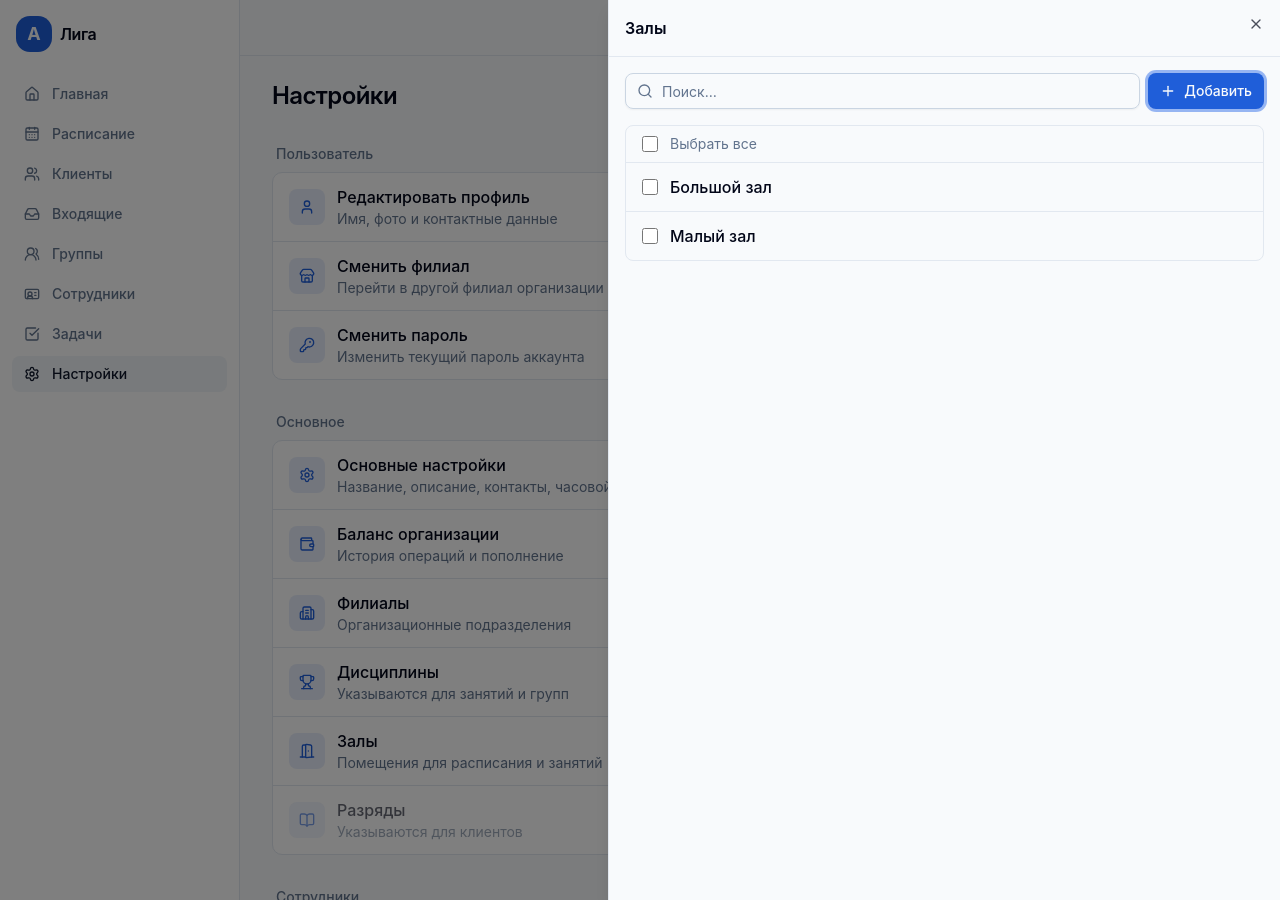
Test case: справочник › создаёт запись с новым UUID v7 и показывает её в списке
The width and height of the screenshot is (1280, 900).
Click the button "Добавить".
click(1206, 91)  # box [1148,73,1264,109]
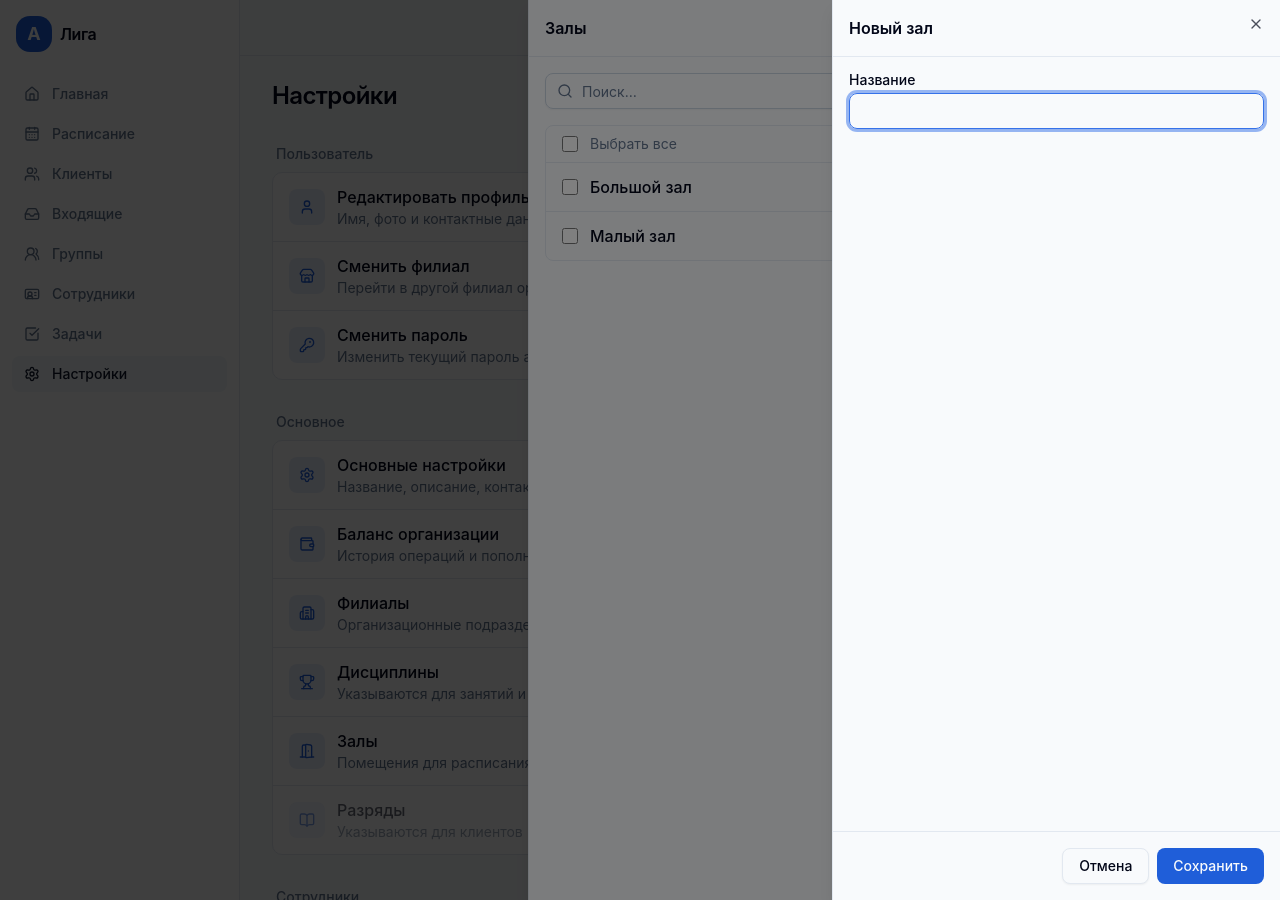
Type "  Зал для йоги " into the field labelled "Название".
click(1056, 111); type("  Зал для йоги ")  # box [849,93,1264,129]
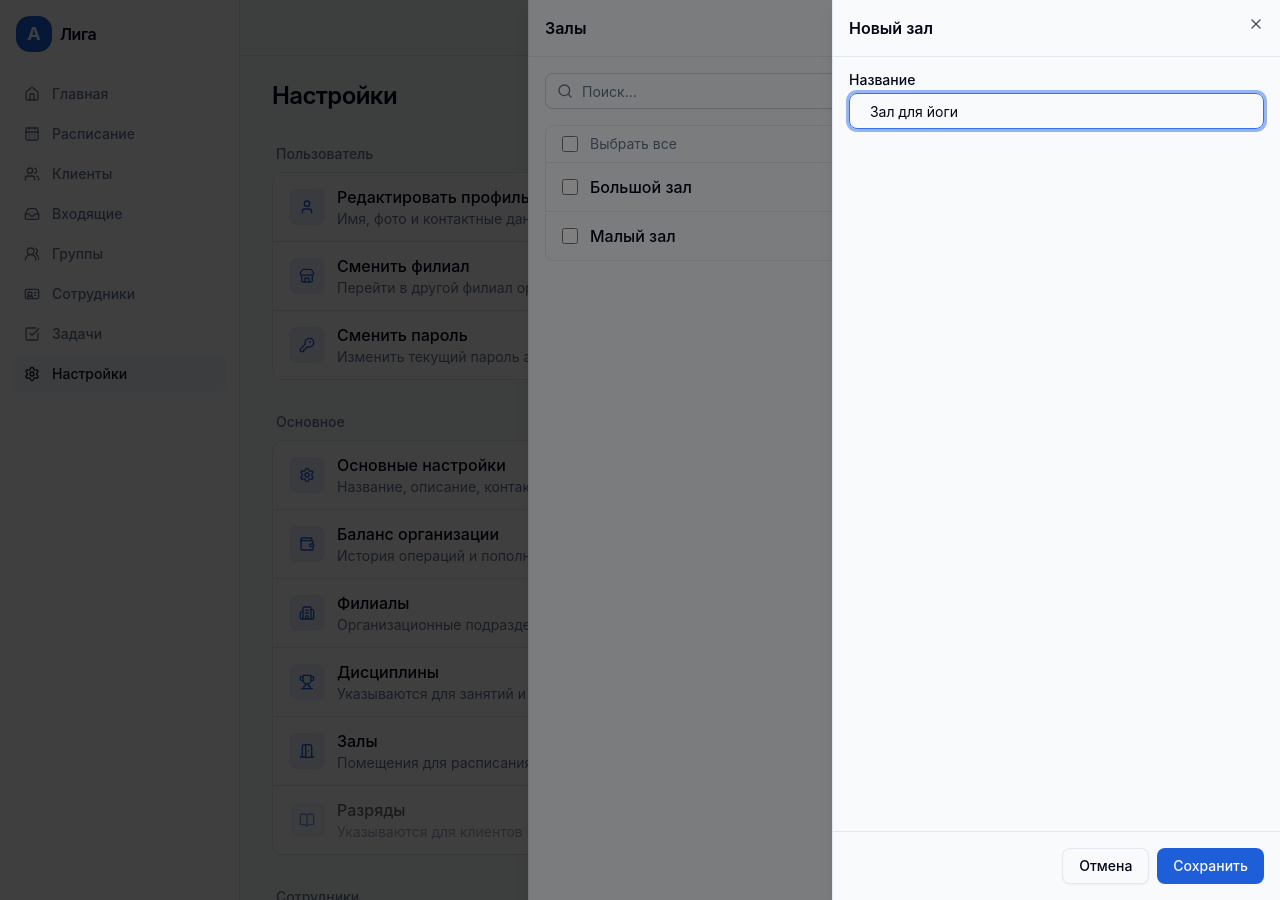
Click the button "Сохранить".
click(1211, 866)  # box [1157,848,1264,884]
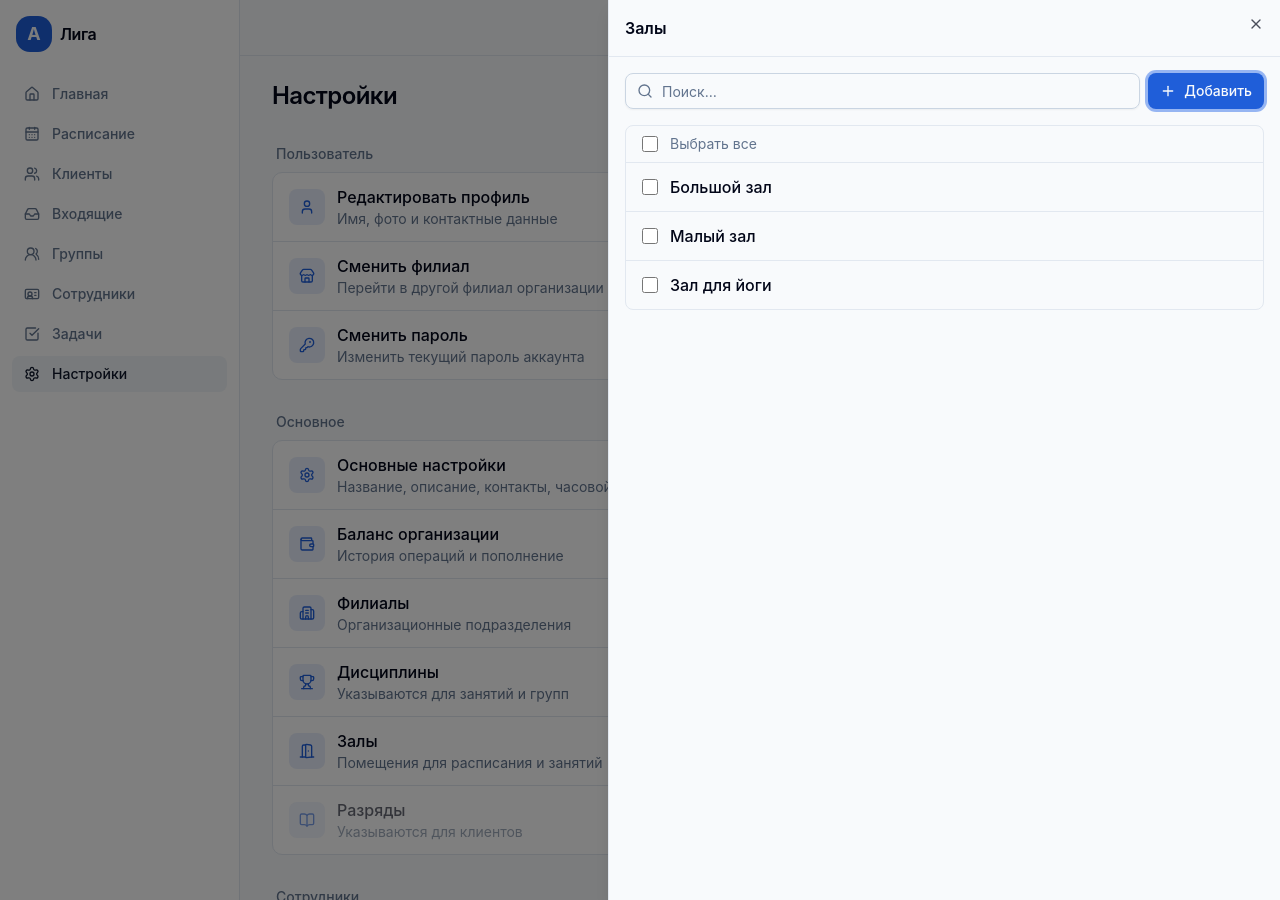
Expected: the button with aria-label "Изменить «Зал для йоги»" is shown, [670,261,1247,309]
Expected: the heading "Новый зал" is gone
Expected: the text "Зал для йоги" is shown, [670,275,772,295]
